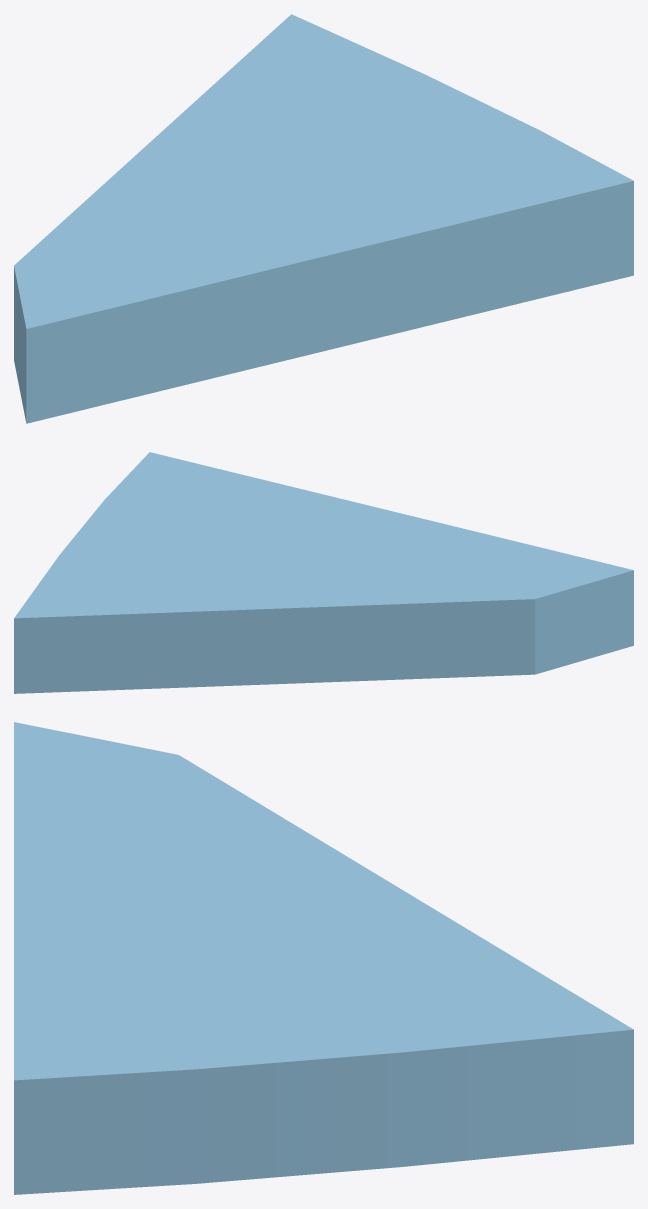
Rendered from Collision-Tip-Proximal-Left.dae.
The picture shows the model from 3 angles, top to bottom: view 1: azimuth 30°, elevation 25°; view 2: azimuth 150°, elevation 25°; view 3: azimuth 270°, elevation 25°; orthographic projection. The views are drawn at different scales.
Visible parts, largest first — view 1: ID2; view 2: ID2; view 3: ID2.
Part boxes in pixels (bbox=[...]): ID2: bbox=[14, 14, 633, 423]; ID2: bbox=[14, 452, 633, 693]; ID2: bbox=[14, 722, 633, 1194].
Bounding box in the file's own units: 0.2684 × 0.1962 × 0.04.
